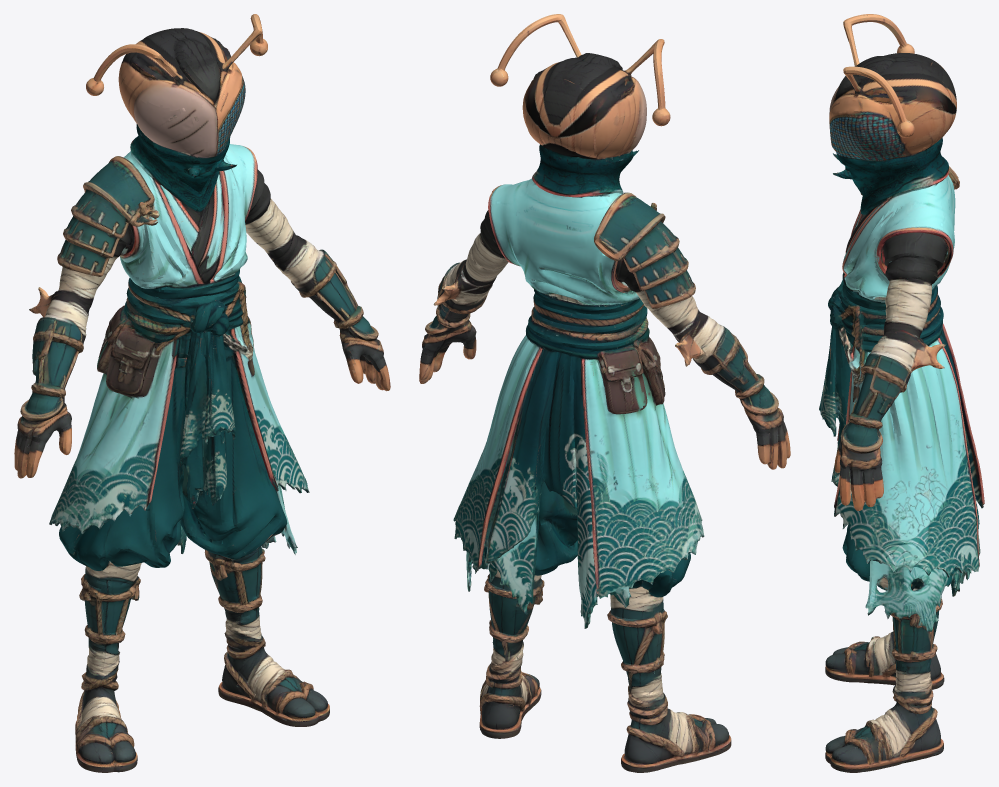
Rendered from rebel_1555_static_source_wokou_v2_multiview.glb.
The picture shows the model from 3 angles, left to right: view 1: azimuth 30°, elevation 25°; view 2: azimuth 150°, elevation 25°; view 3: azimuth 270°, elevation 25°; orthographic projection. The views are drawn at different scales.
Parts seen in each view (by area): view 1: Mesh_0; view 2: Mesh_0; view 3: Mesh_0.
Part boxes in pixels (bbox=[...]): Mesh_0: bbox=[14, 14, 390, 772]; Mesh_0: bbox=[419, 14, 790, 772]; Mesh_0: bbox=[819, 14, 984, 772].
Bounding box in the file's own units: 1.04 × 1.9 × 0.4227.
Materials: 1 (1 with a texture image).
